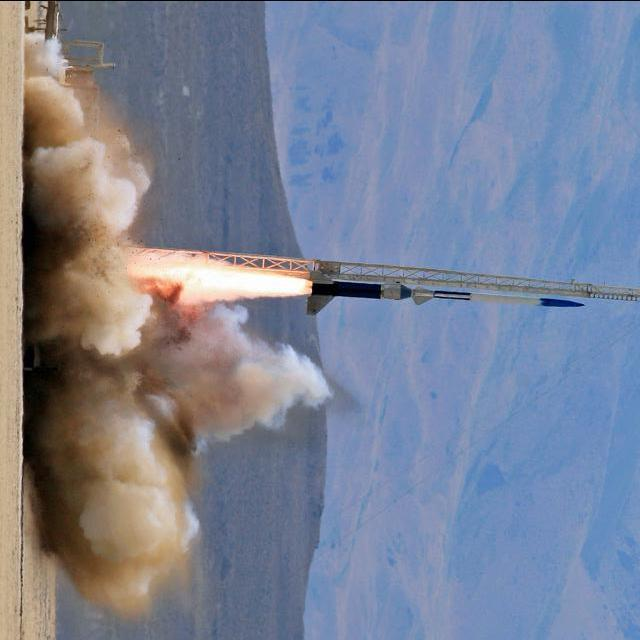missile: (292, 254, 596, 315)
